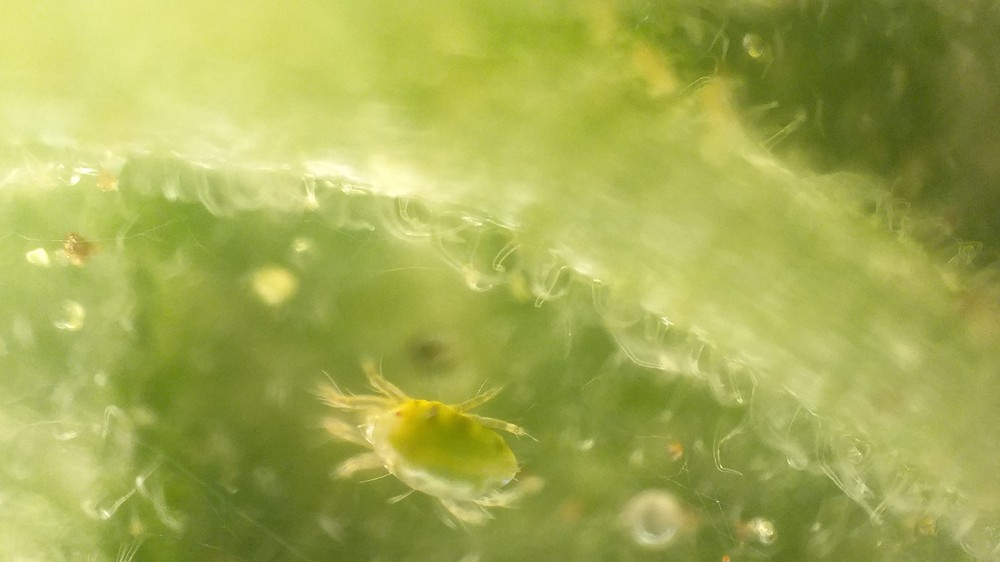Aracnido Rojo: (302, 344, 558, 546)
